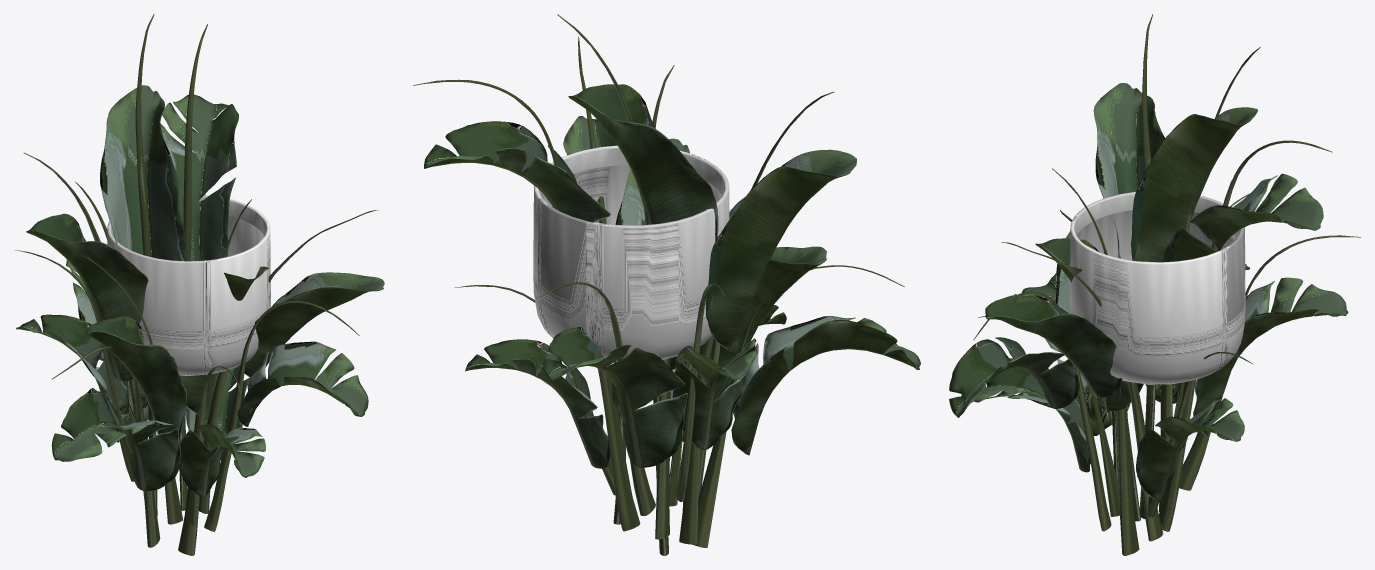
File: plant.glb
3 renders of one model, left to right at view 1: azimuth 30°, elevation 25°; view 2: azimuth 150°, elevation 25°; view 3: azimuth 270°, elevation 25°, orthographic. The views are drawn at different scales.
Parts seen in each view (by area): view 1: Object_9, Object_8, Object_5, Object_10; view 2: Object_8, Object_5, Object_9, Object_10; view 3: Object_8, Object_9, Object_5, Object_10.
Part boxes in pixels (x1,y1,x2,y2): Object_9: [16, 85, 384, 496]; Object_8: [16, 104, 373, 496]; Object_5: [107, 194, 270, 375]; Object_10: [15, 14, 378, 555]; Object_8: [426, 97, 915, 468]; Object_5: [533, 145, 729, 361]; Object_9: [424, 84, 920, 468]; Object_10: [413, 14, 904, 555]; Object_8: [959, 99, 1327, 500]; Object_9: [949, 83, 1348, 500]; Object_5: [1070, 191, 1245, 384]; Object_10: [973, 14, 1360, 555].
Size of the model in its own units: 35321 by 53813 by 38523.
5 materials, 5 textured.
